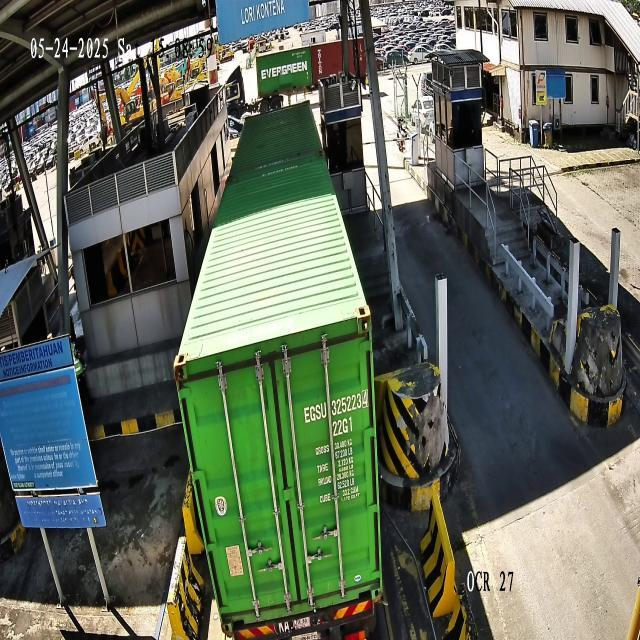ISO: (332, 414, 352, 436)
container_number: (303, 388, 369, 423)
